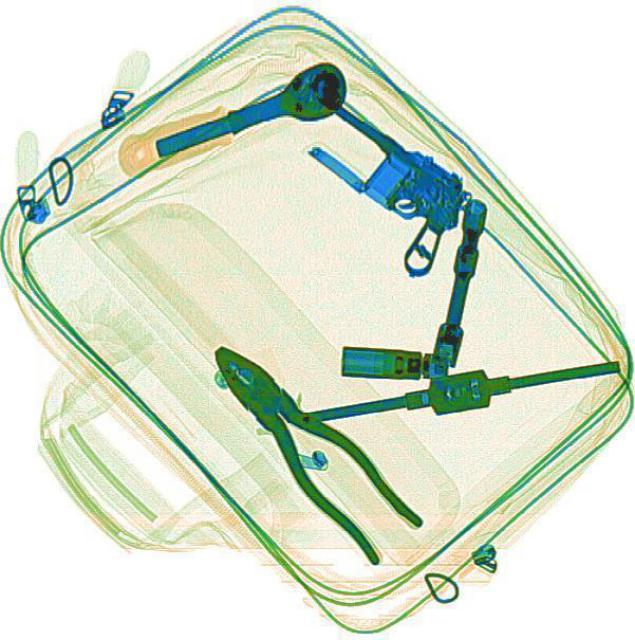Gun: (256, 78, 491, 280)
Pliers: (186, 326, 427, 566)
